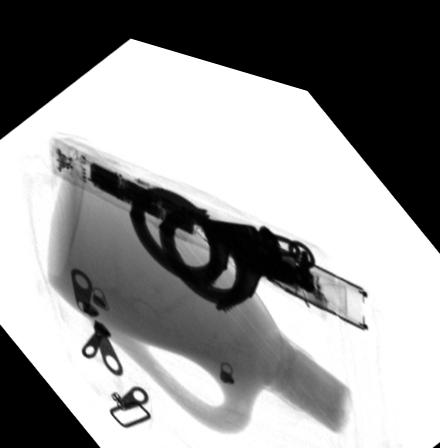Baton: (52, 134, 364, 307)
HandCuffs: (126, 173, 319, 300)
